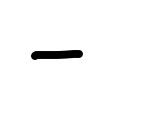minus: (31, 50, 82, 63)
